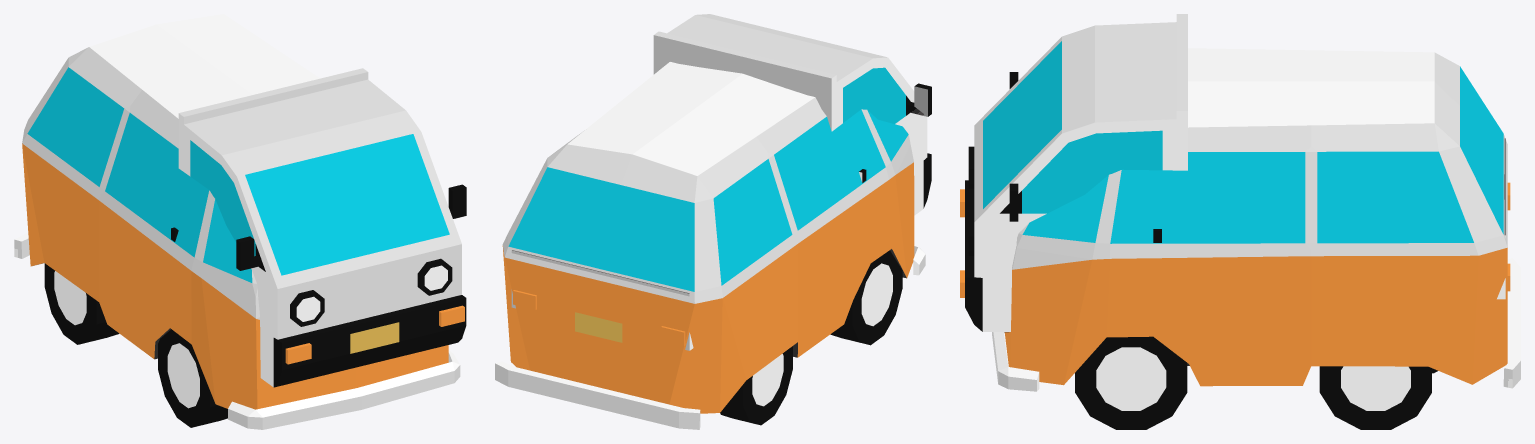
File: cars.glb
3 renders of one model, left to right at view 1: azimuth 30°, elevation 25°; view 2: azimuth 150°, elevation 25°; view 3: azimuth 270°, elevation 25°, orthographic. The views are drawn at different scales.
Visible parts, largest first — view 1: VW Bus, Suzuki Carry; view 2: VW Bus, Suzuki Carry; view 3: VW Bus, Suzuki Carry.
Part boxes in pixels (x1,y1,x2,y2): VW Bus: (14, 14, 460, 429); Suzuki Carry: (178, 68, 466, 387); VW Bus: (495, 62, 925, 429); Suzuki Carry: (511, 14, 931, 350); VW Bus: (992, 48, 1520, 429); Suzuki Carry: (960, 14, 1510, 331).
Size of the model in its own units: 1.79 by 2.09 by 3.45.
Materials: 4 (4 with a texture image).
